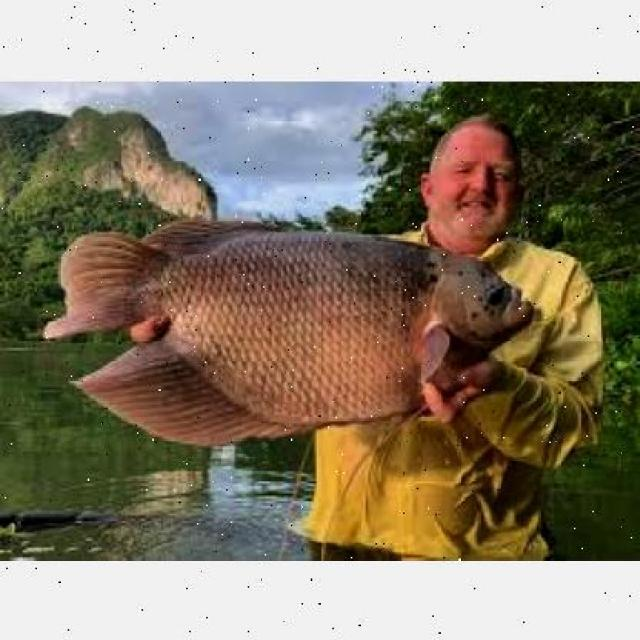gurame: (59, 218, 538, 440)
